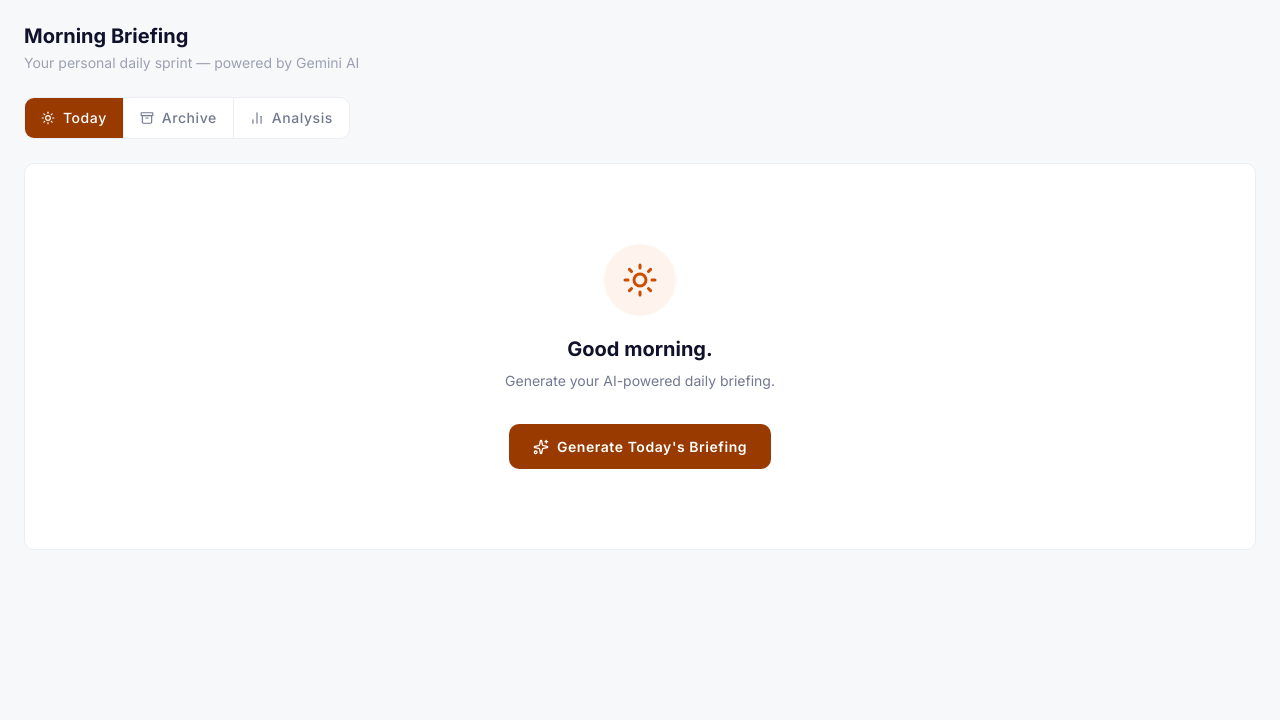
Scenario: MorningBriefingClient › shows error state when POST fails
The image size is (1280, 720).
# Click generate
What coordinates should you click on to do the following:
click the button "Generate Today's Briefing"
I would click on:
 (640, 447)
Its box is [509,424,771,469].
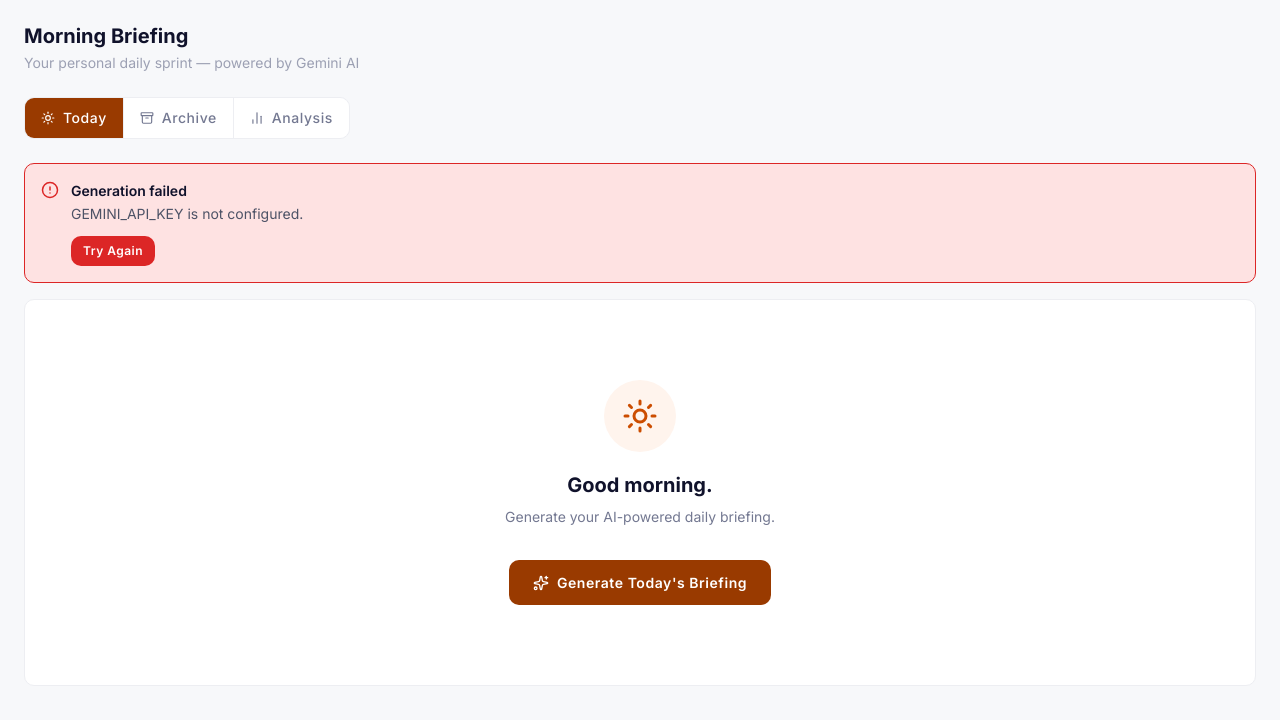
Check: the text "Generation failed" is shown, box [71,182,187,199]
Check: the text "GEMINI_API_KEY is not configured." is shown, box [71,203,303,224]
